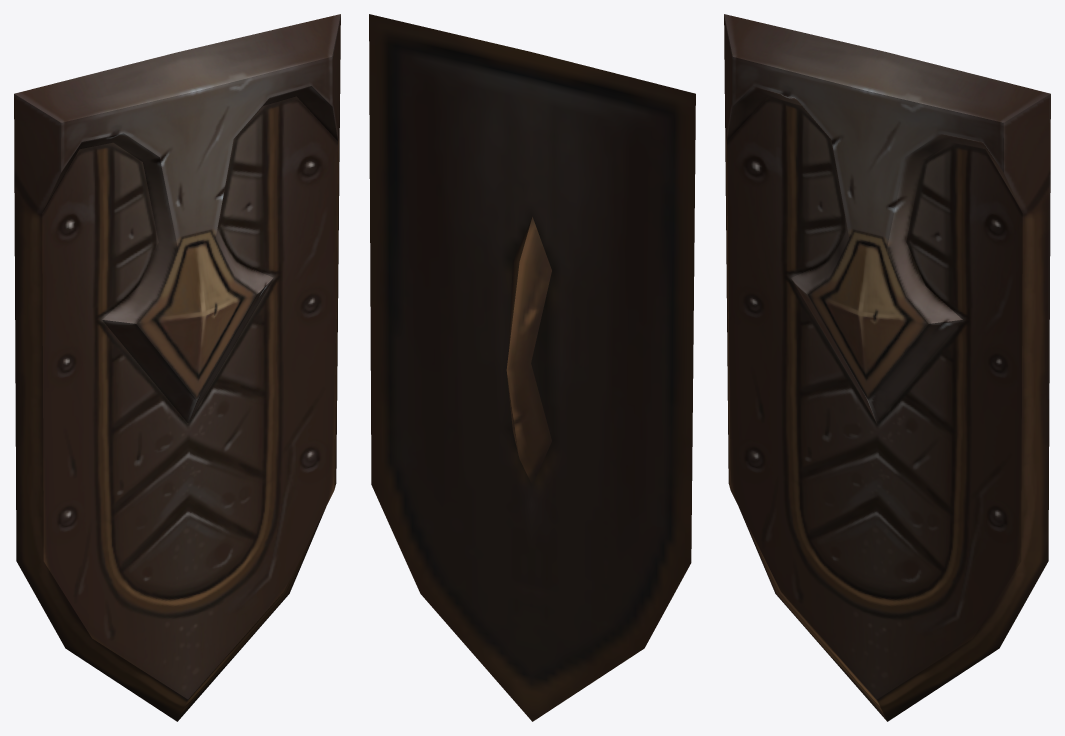
File: Shield06.fbx
The picture shows the model from 3 angles, left to right: view 1: azimuth 30°, elevation 25°; view 2: azimuth 150°, elevation 25°; view 3: azimuth 330°, elevation 25°; orthographic projection.
Visible parts, largest first — view 1: Shield06; view 2: Shield06; view 3: Shield06.
Part boxes in pixels (x1,y1,x2,y2): Shield06: [14, 14, 340, 721]; Shield06: [369, 14, 695, 721]; Shield06: [724, 14, 1050, 721].
Bounding box in the file's own units: 0.7147 × 1.4 × 0.2007.
